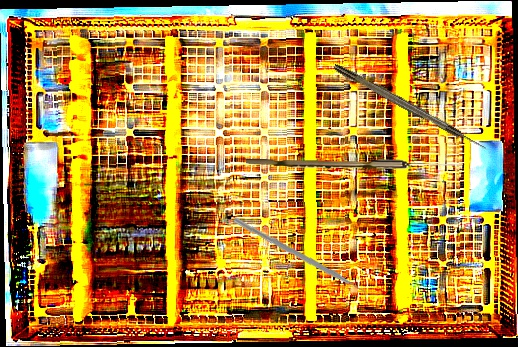Chopper: (232, 210, 370, 313)
Hook Surgical: (332, 61, 489, 154)
Surgical Spoon: (246, 159, 463, 169)
